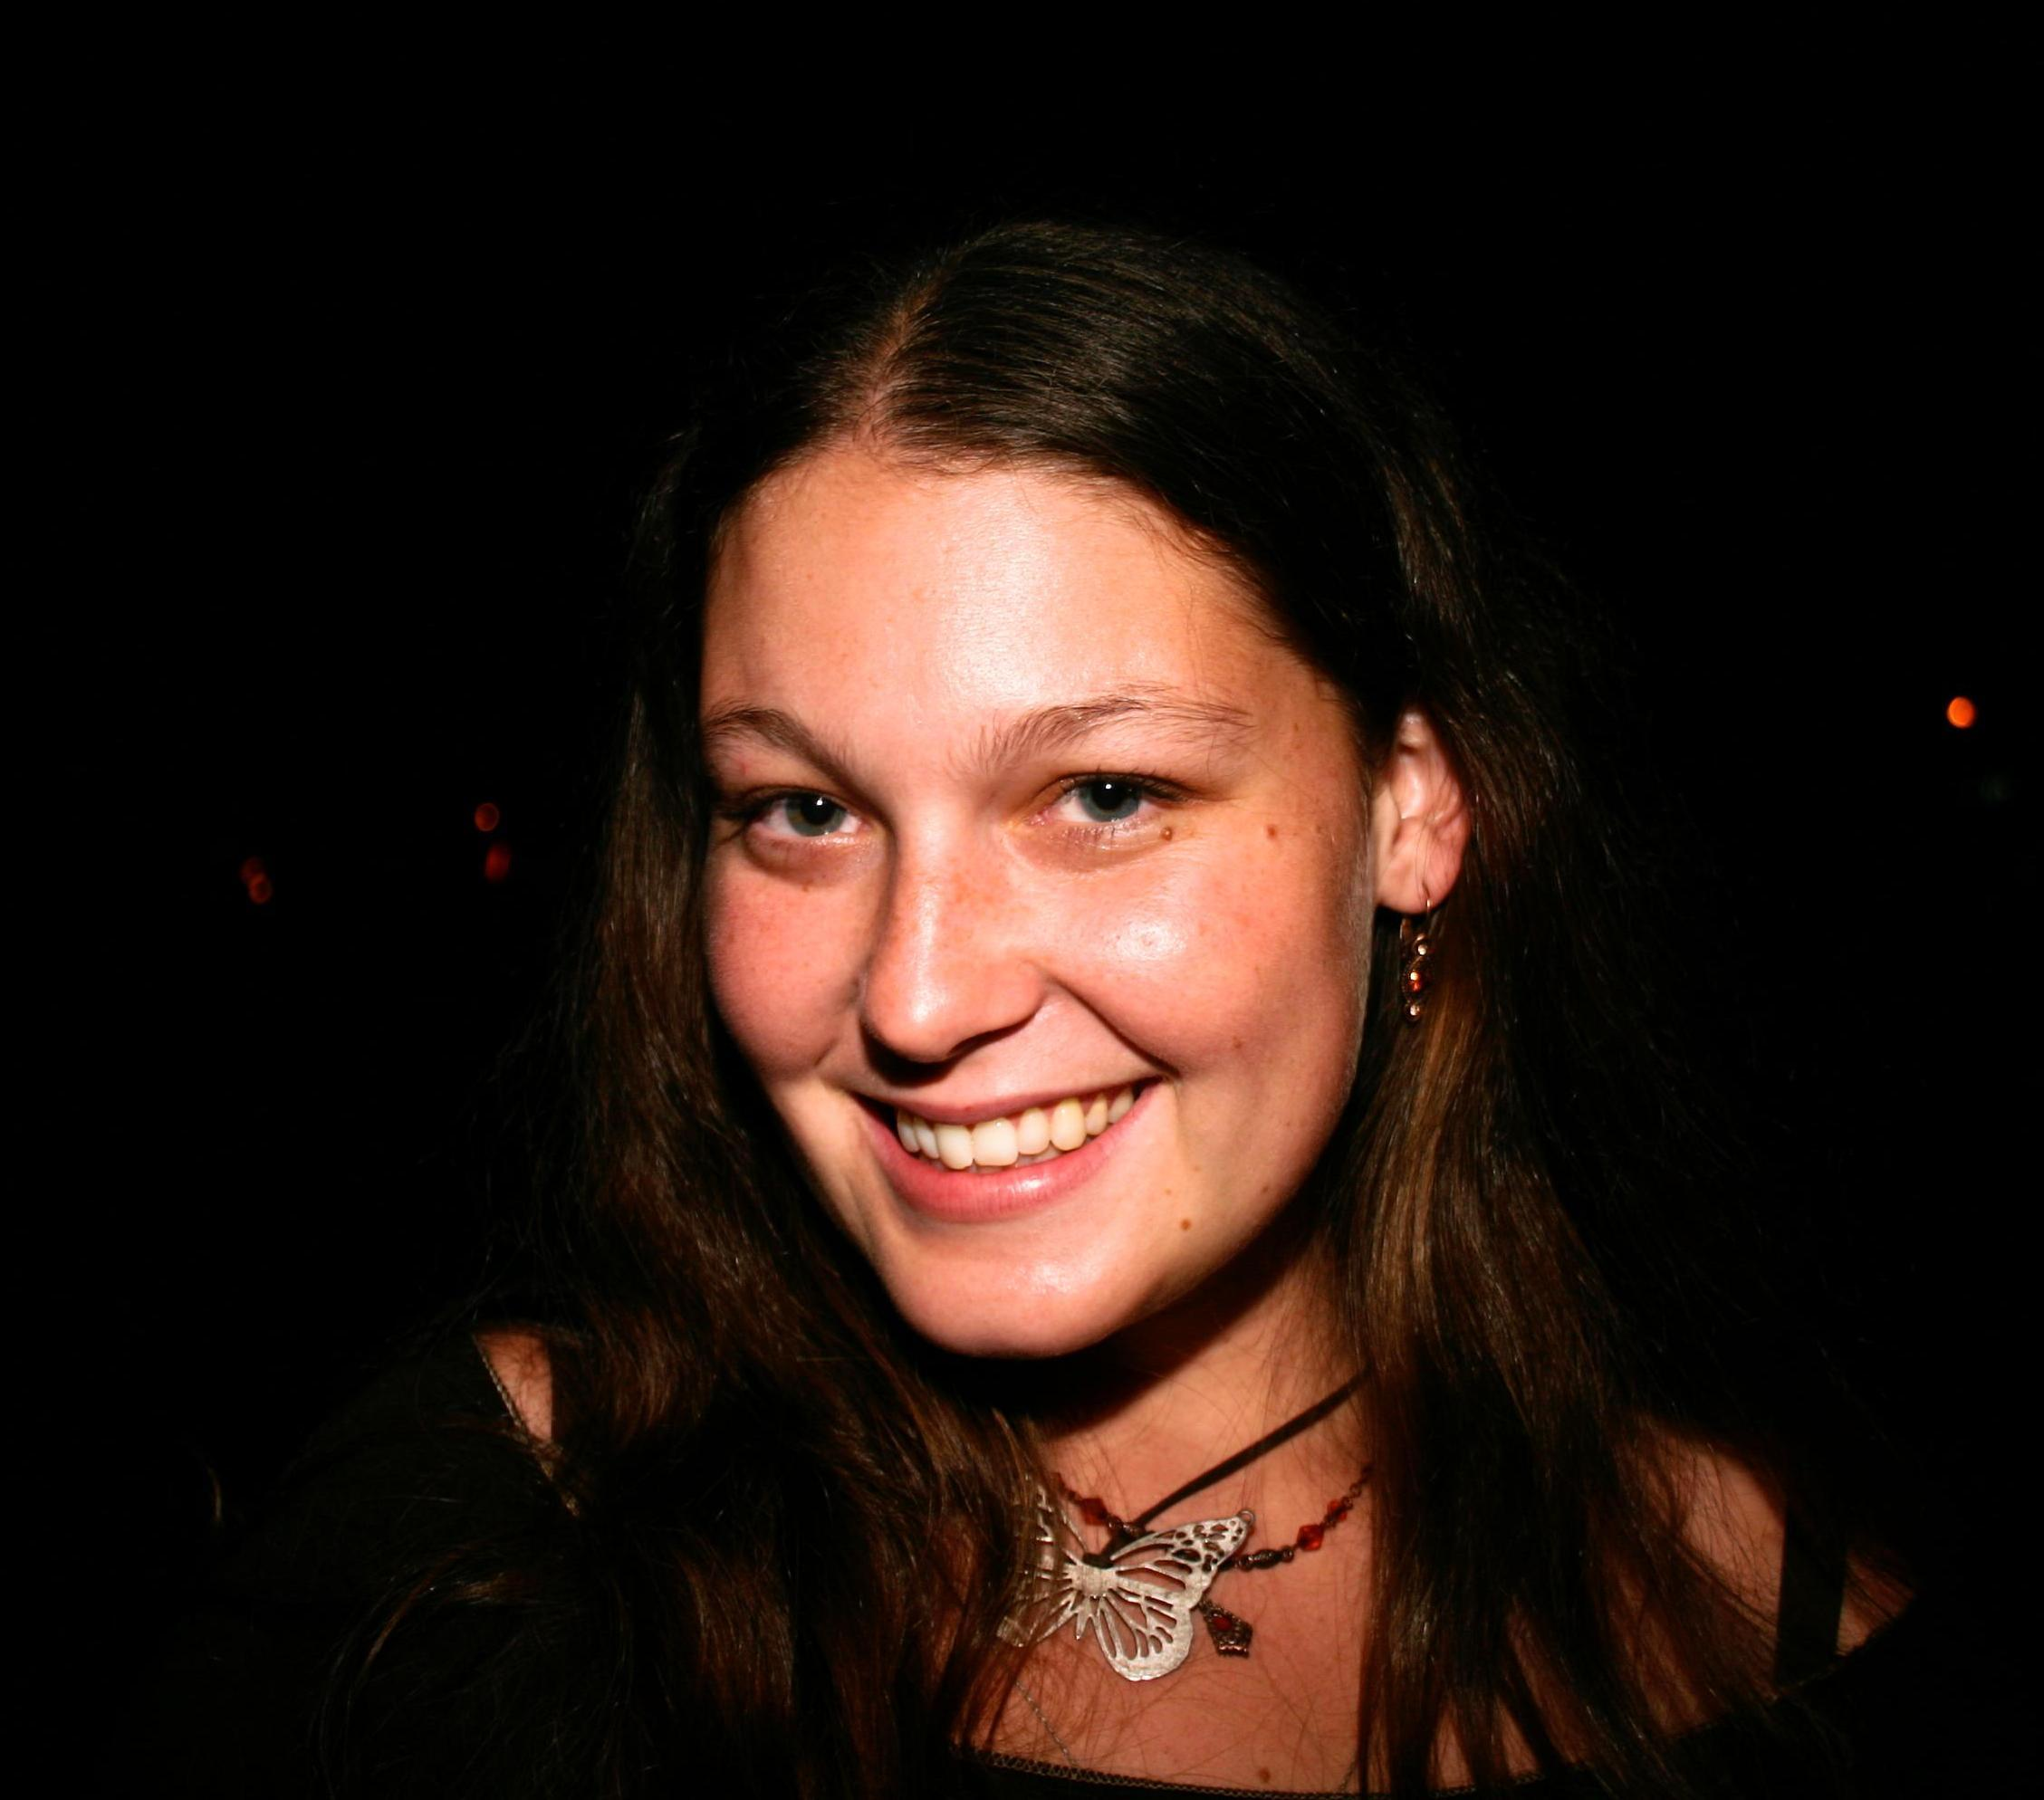Eyebags: (1001, 803, 1194, 884), (730, 831, 881, 898)
